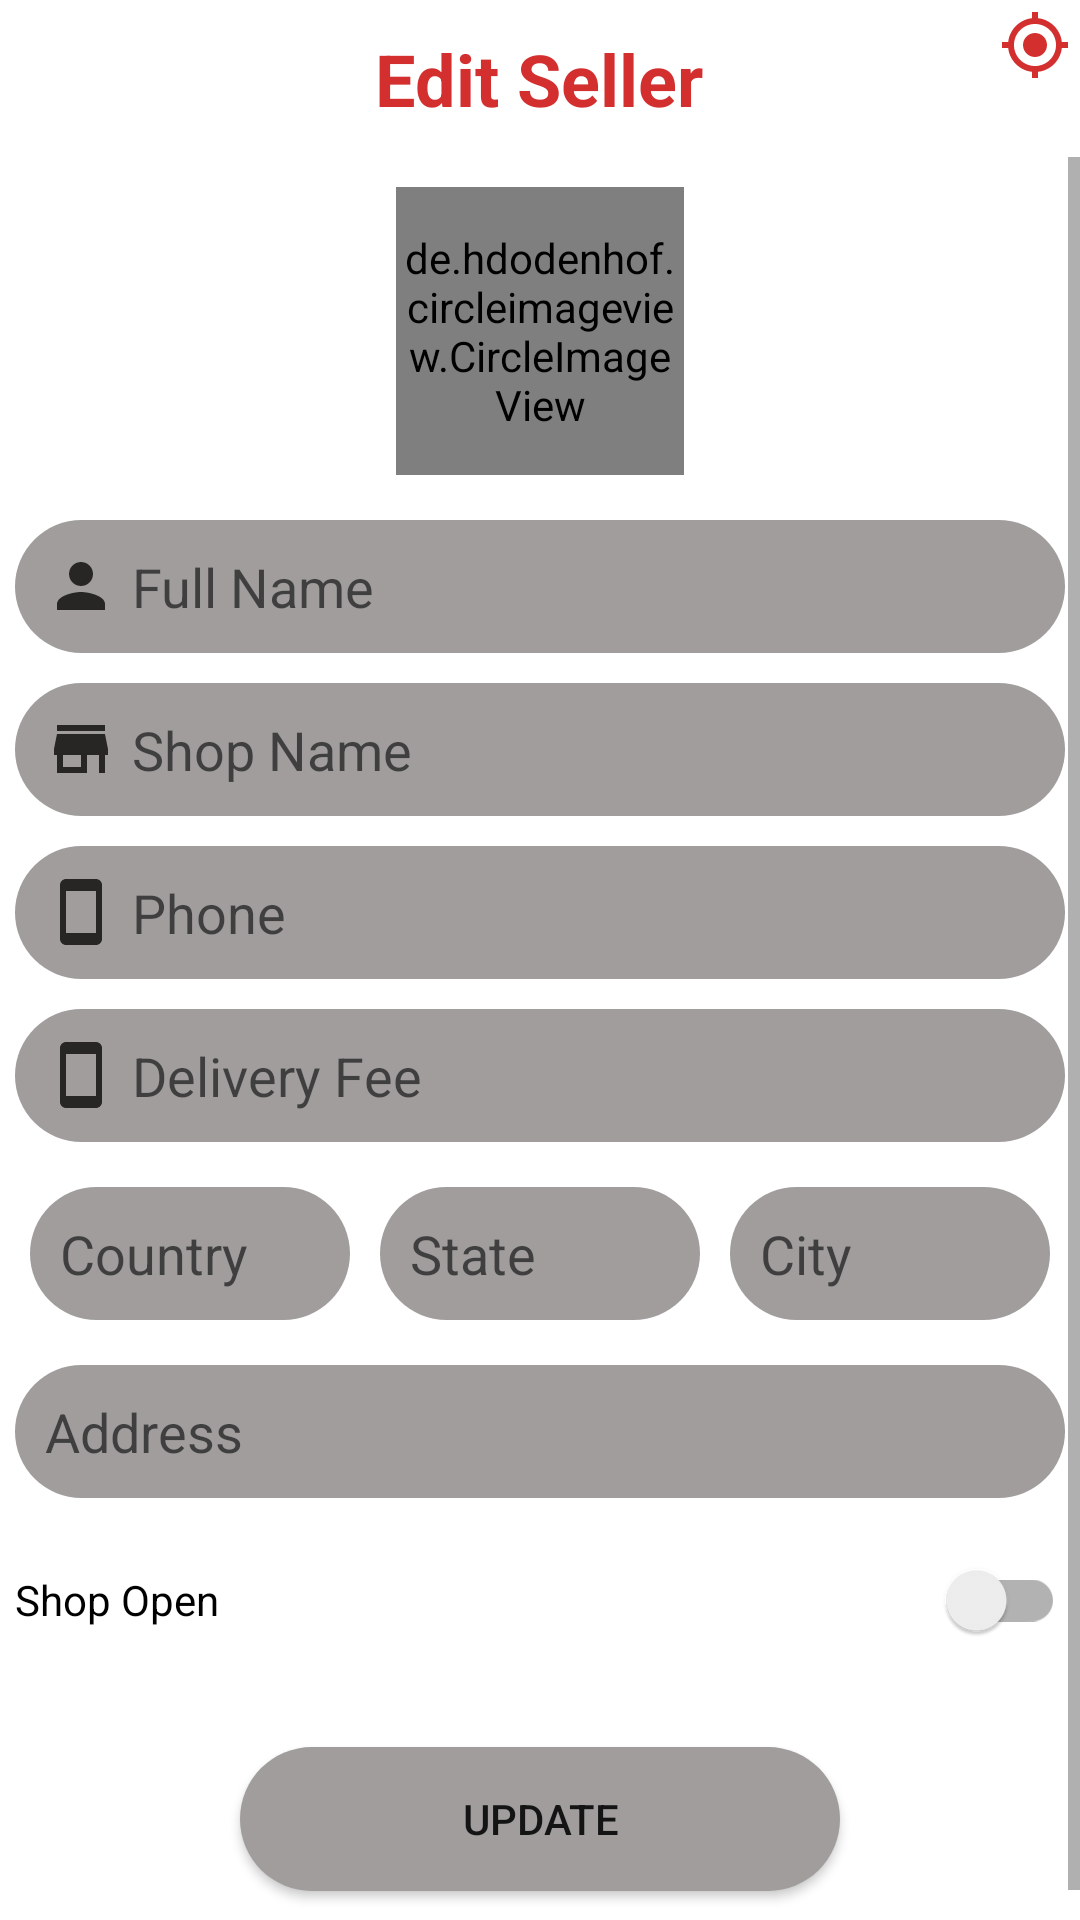

Icon bounding boxes for this 1080×1920 phone screenshot, format {"left": x1, "top": y1, "right": x2, "bottom": y2}:
gps fixed: {"left": 1002, "top": 12, "right": 1068, "bottom": 78}
